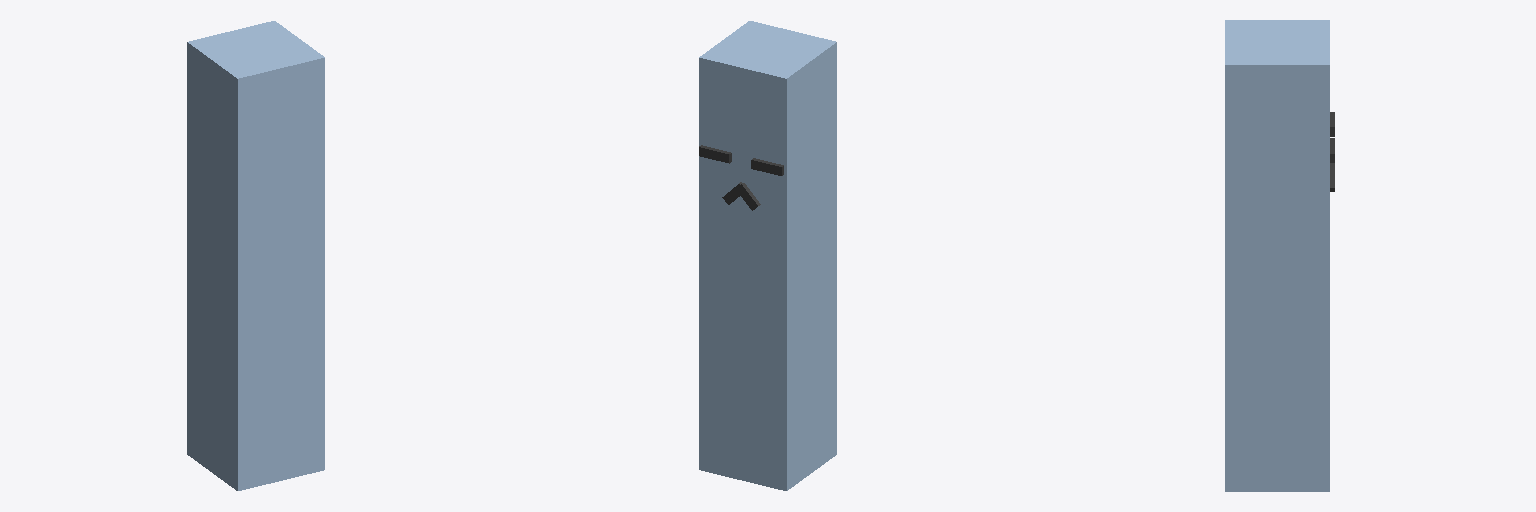
The robot description file, URDF, robot "object":
<?xml version="1.0"?>
<robot name="object">
  <link name="object">
    <visual>
      <origin xyz="0 0 0"/>
      <geometry>
        <box size="0.4 0.4 1.8"/>
      </geometry>
      <material name="mat">
        <color rgba="0.7 0.8 0.9 1"/>
      </material>
    </visual>

    <visual>
      <origin xyz="-0.12 0.2 0.5"/>
      <geometry>
        <box size="0.14 0.04 0.04"/>
      </geometry>
      <material name="mat">
        <color rgba="0.3 0.3 0.3 1"/>
      </material>
    </visual>

    <visual>
      <origin xyz="0.12 0.2 0.5"/>
      <geometry>
        <box size="0.14 0.04 0.04"/>
      </geometry>
      <material name="mat">
        <color rgba="0.3 0.3 0.3 1"/>
      </material>
    </visual>

    <visual>
      <origin xyz="0.03 0.2 0.35" rpy="0 0.8 0"/>
      <geometry>
        <box size="0.11 0.04 0.04"/>
      </geometry>
      <material name="mat">
        <color rgba="0.3 0.3 0.3 1"/>
      </material>
    </visual>

    <visual>
      <origin xyz="-0.03 0.2 0.35" rpy="0 -0.8 0"/>
      <geometry>
        <box size="0.11 0.04 0.04"/>
      </geometry>
      <material name="mat">
        <color rgba="0.3 0.3 0.3 1"/>
      </material>
    </visual>


    <collision>
      <origin xyz="0 0 0"/>
      <geometry>
        <box size="0.4 0.4 1.8"/>
      </geometry>
    </collision>
  </link>
</robot>

--- Facts derived from the render (not from the file) ---
3 views of the same robot in one strip: view 1: azimuth 30°, elevation 25°; view 2: azimuth 150°, elevation 25°; view 3: azimuth 270°, elevation 25° (orthographic).
Robot: object — 1 links, 0 joints (none); root link object; default pose: every joint at zero.
Links seen in each view (by area): view 1: object; view 2: object; view 3: object.
Link boxes in pixels (box(x1,y1,x2,y2)): object: box(187, 21, 324, 490); object: box(699, 21, 836, 490); object: box(1225, 20, 1334, 491).
Size in the robot's own frame: 0.4 by 0.42 by 1.8 metres.
Geometry: primitives only (box / cylinder / sphere), no mesh files.
